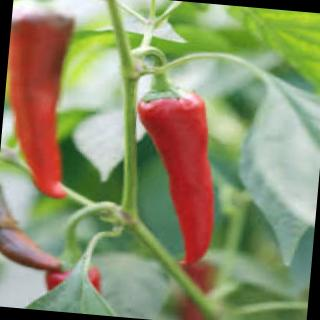Cabai Merah: (136, 93, 216, 267), (7, 14, 75, 199)
